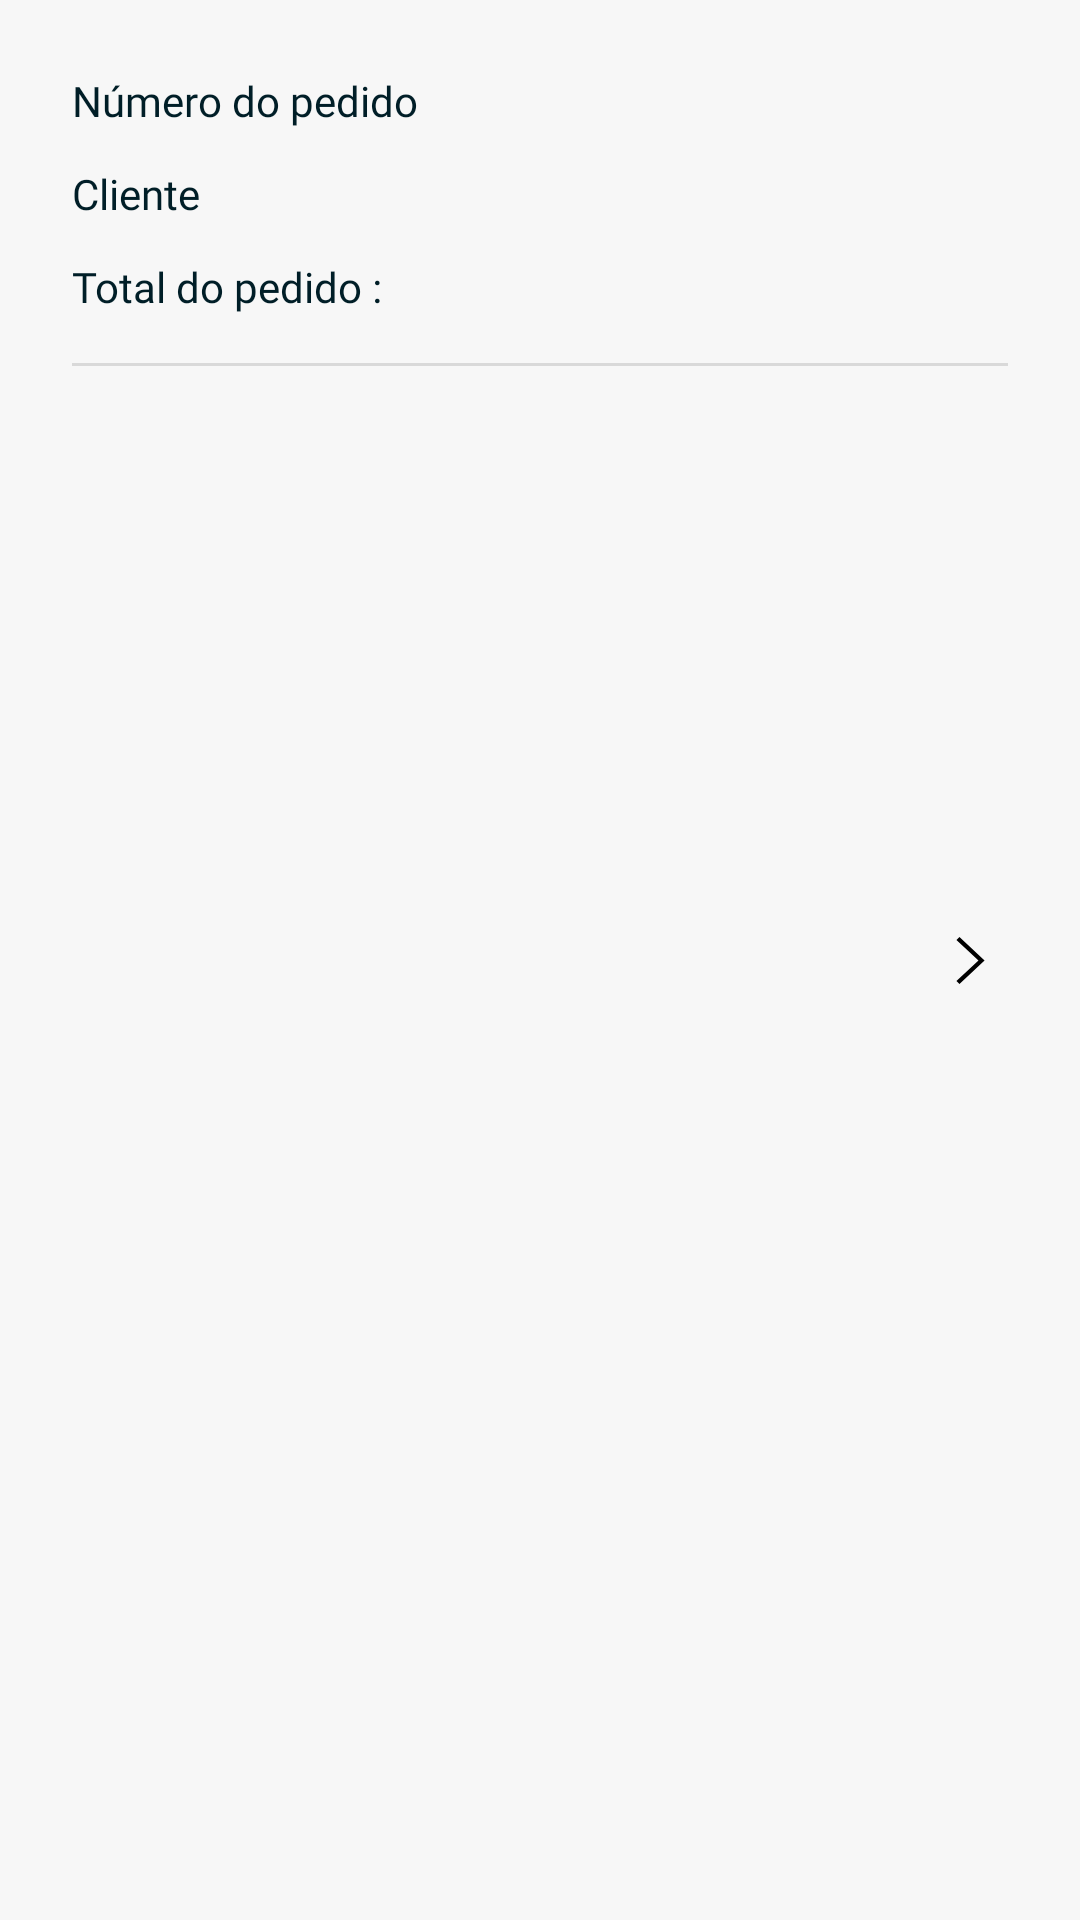

Where icons sit on this 1080 x 1920 app screen, as [left=x1, top=y1, right=x2, bottom=y2]:
arrow right: [left=956, top=937, right=985, bottom=984]
